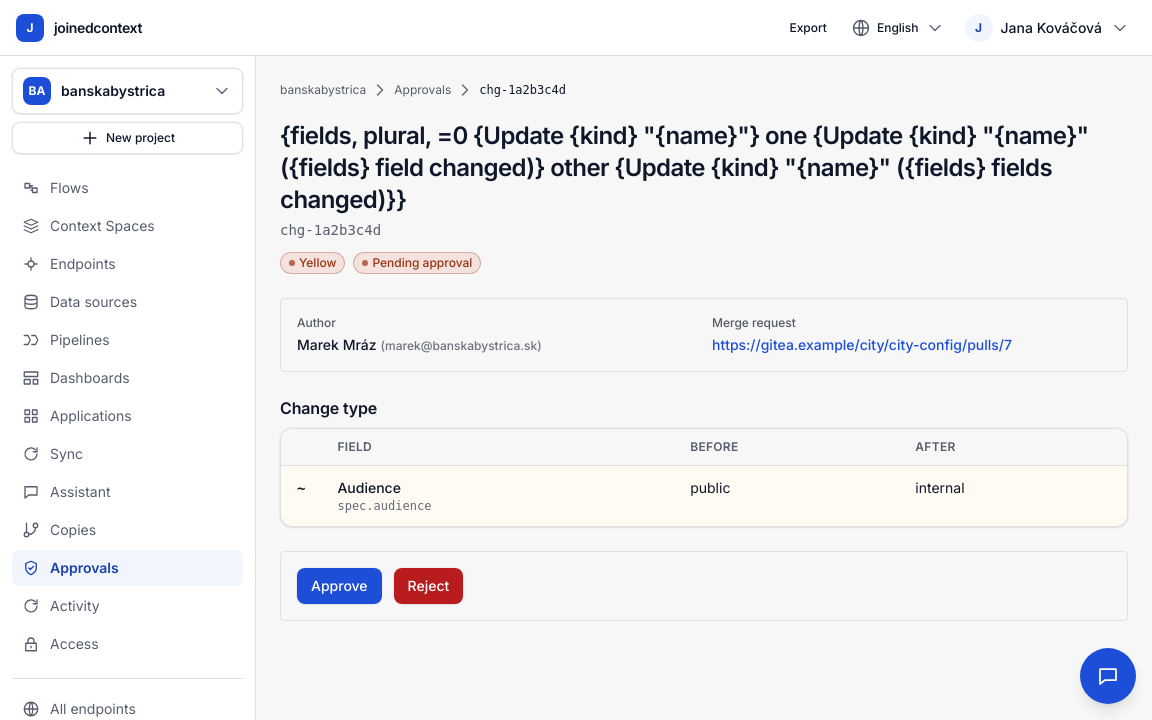
Test: approval actions › moves the status chip to Deploying once the merge is accepted
Click the button "Approve": {"x": 339, "y": 586} left=297, top=568, right=382, bottom=604
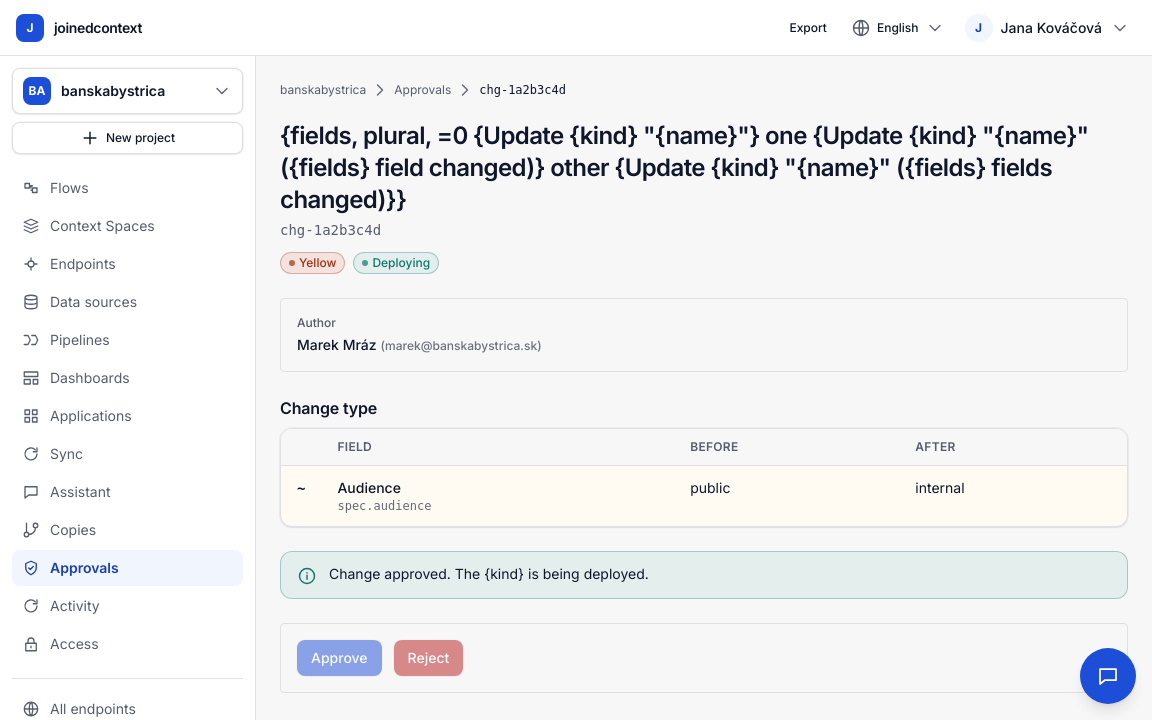
Result: the text "Deploying" is shown at left=353, top=252, right=439, bottom=274
Result: the button "Approve" is disabled at left=297, top=640, right=382, bottom=676
